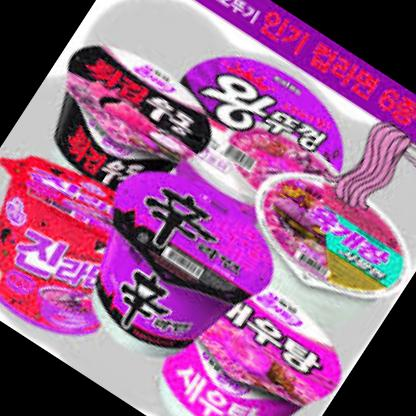Ramen: (54, 163, 286, 389), (132, 24, 360, 244), (211, 143, 416, 355), (0, 136, 174, 358), (25, 27, 224, 218), (145, 262, 364, 416)
